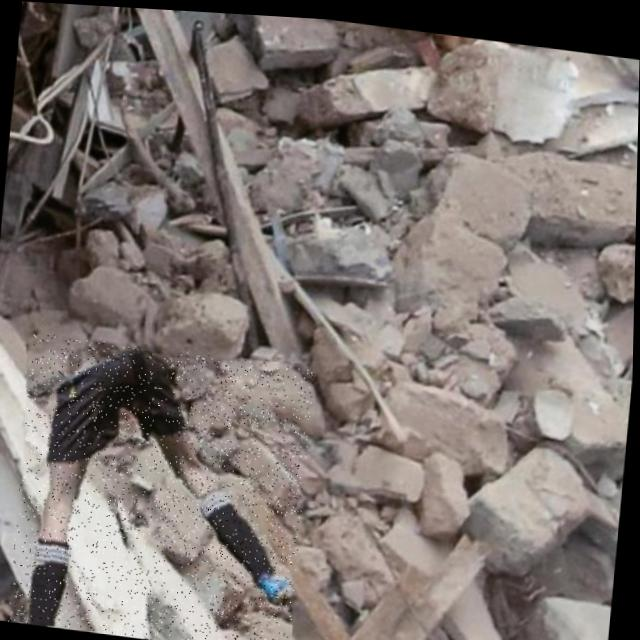Person in Rubble: (9, 330, 316, 640)
